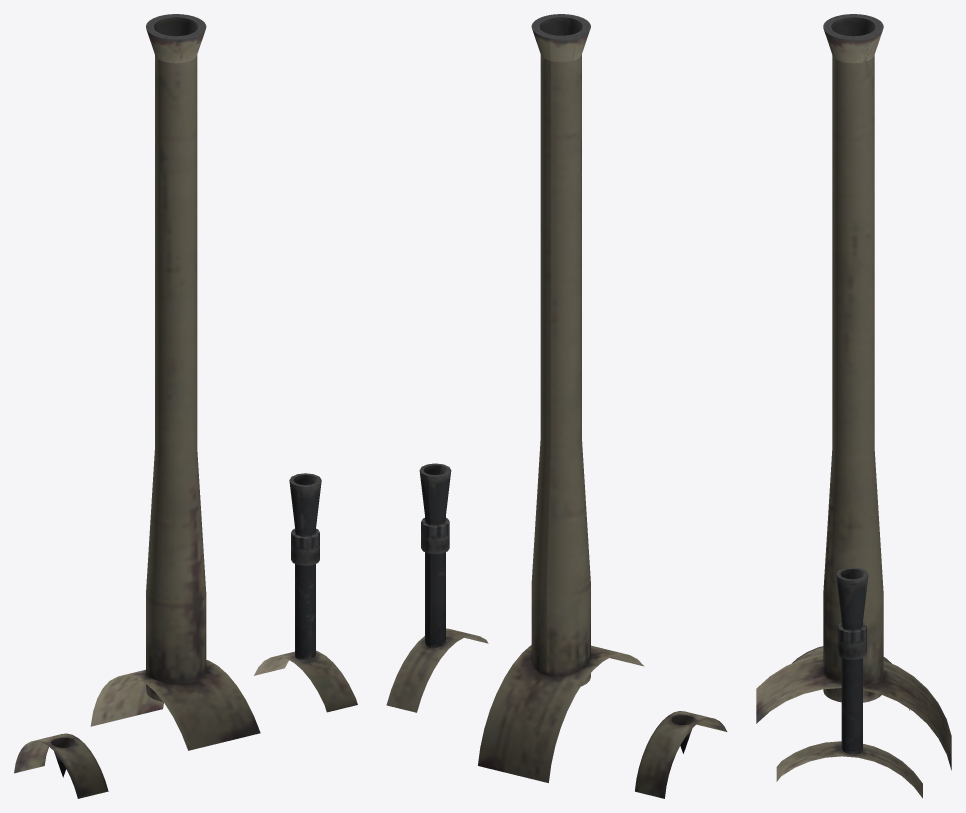
Rendered from Gun_04.glb.
3 views of the same model, side by side, from view 1: azimuth 30°, elevation 25°; view 2: azimuth 150°, elevation 25°; view 3: azimuth 270°, elevation 25° (orthographic). The views are drawn at different scales.
Parts seen in each view (by area): view 1: set_0_group_0; view 2: set_0_group_0; view 3: set_0_group_0.
Boxes of the visible parts, <box> form: set_0_group_0: <box>14,14,357,798</box>; set_0_group_0: <box>386,14,727,798</box>; set_0_group_0: <box>756,14,951,798</box>.
Bounding box in the file's own units: 0.5719 × 1.45 × 0.3488.
1 material, 1 textured.
